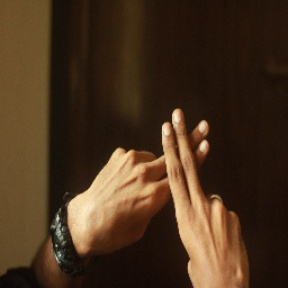F: (132, 101, 233, 230)
